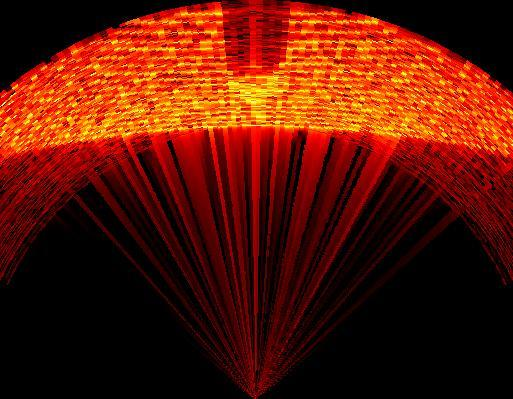box_crate: (215, 3, 293, 93)
